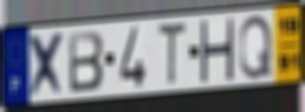4: (118, 24, 147, 90)
B: (67, 28, 106, 95)
H: (198, 17, 236, 83)
Q: (238, 13, 273, 81)
T: (156, 20, 188, 88)
X: (28, 29, 68, 100)
